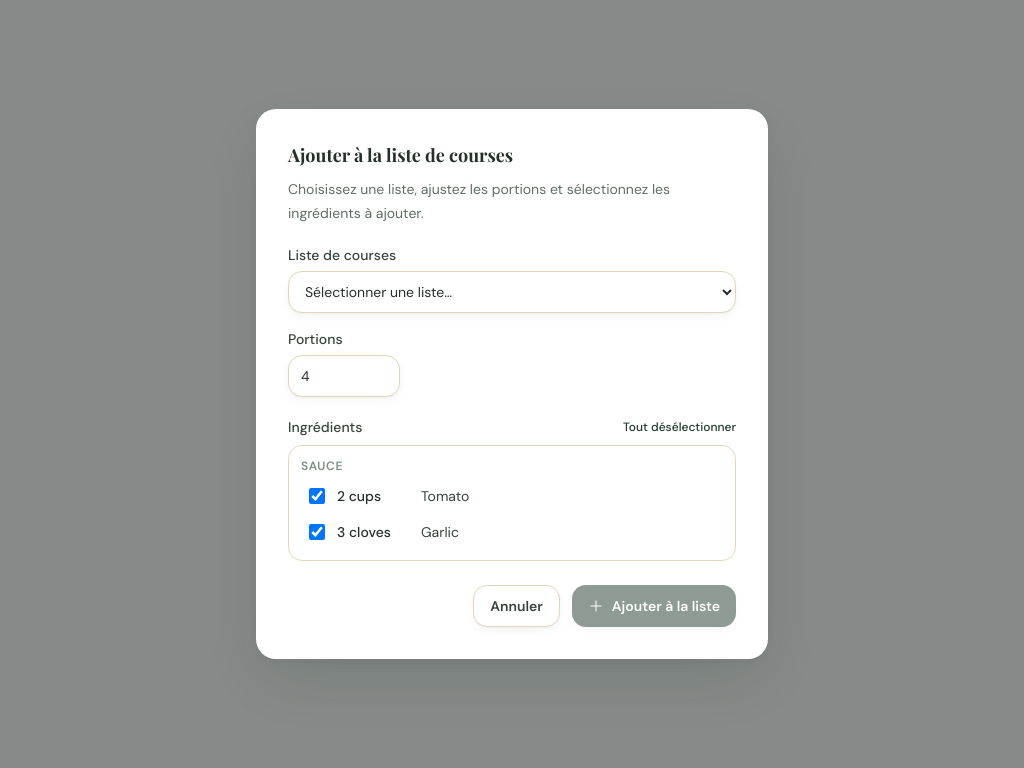
Test: AddToShoppingListModal › disables submit when no ingredients are selected
Select "Weekly Groceries" in the dropdown labelled "Liste de courses" at (512, 292), box [288,271,736,313]
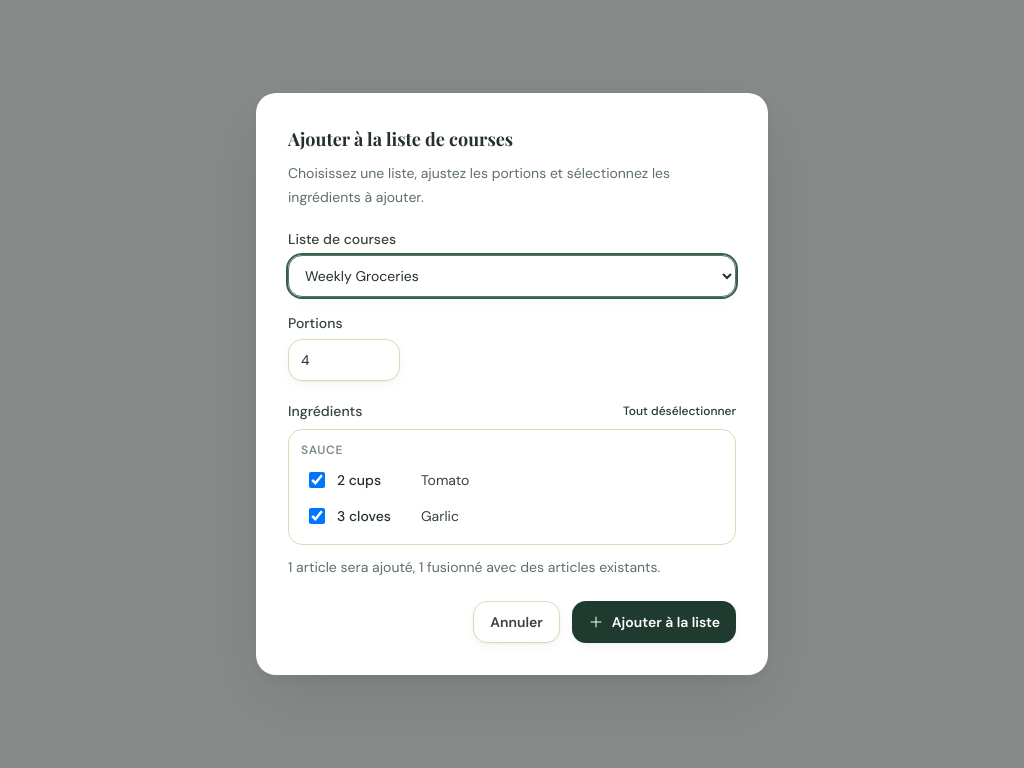
# Deselect all ingredients.
Click the button "Tout désélectionner" at (680, 411), box [623,403,736,419]
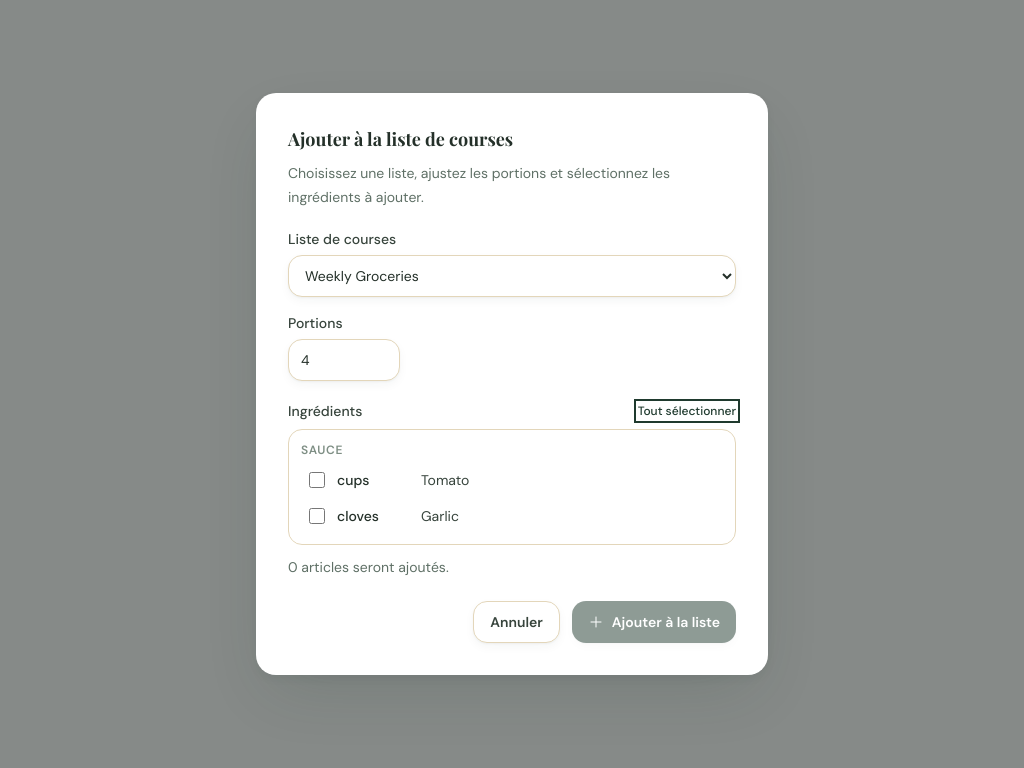
Result: the button "Ajouter à la liste" is disabled at [572,601,736,643]
